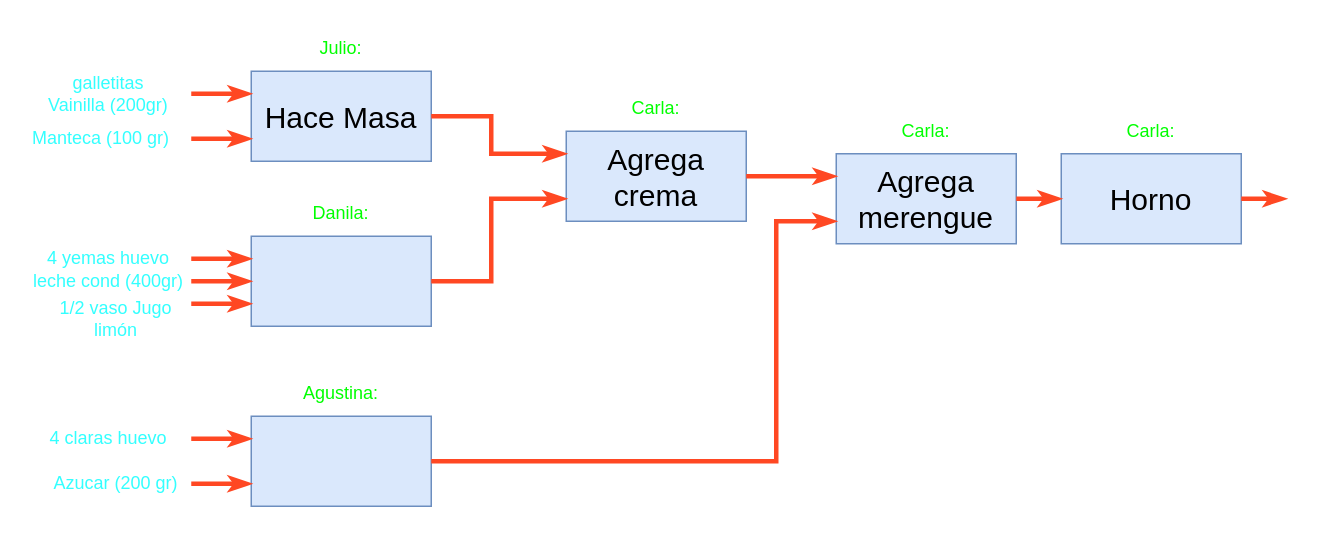
Image size: 1326x533. Some labels were removed from this diagram. Here are the shapes that lost their labels. From the top down, the centre of each, then its label:
At point 340,280: "Crema de Limón".
At point 340,460: "Merengue Frances".
